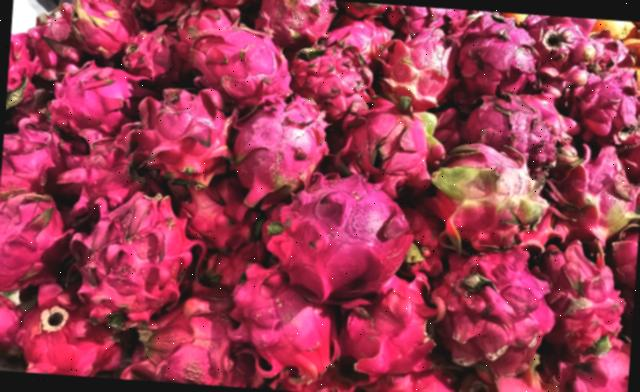buah-naga-belum-matang: (422, 137, 549, 248), (334, 94, 450, 194), (554, 140, 640, 249)
buah-naga-matang: (260, 172, 418, 302), (414, 237, 562, 371), (70, 191, 200, 328), (216, 256, 352, 380), (125, 291, 262, 388), (223, 92, 329, 204), (532, 240, 628, 362), (331, 271, 446, 369), (132, 90, 236, 182), (20, 288, 128, 376), (182, 25, 296, 104), (46, 59, 146, 141), (462, 87, 564, 164), (62, 125, 153, 209), (453, 11, 540, 97), (0, 187, 71, 292), (378, 23, 458, 115), (282, 32, 372, 112), (518, 14, 602, 94), (164, 178, 259, 247), (386, 190, 451, 276), (568, 68, 640, 144), (56, 0, 142, 58), (0, 120, 64, 196), (114, 24, 185, 90), (540, 340, 630, 392), (248, 0, 336, 46), (18, 19, 82, 75), (457, 358, 562, 392), (198, 239, 266, 291), (323, 16, 392, 64), (362, 363, 463, 392), (175, 0, 240, 40), (385, 4, 466, 32), (128, 0, 184, 25)
